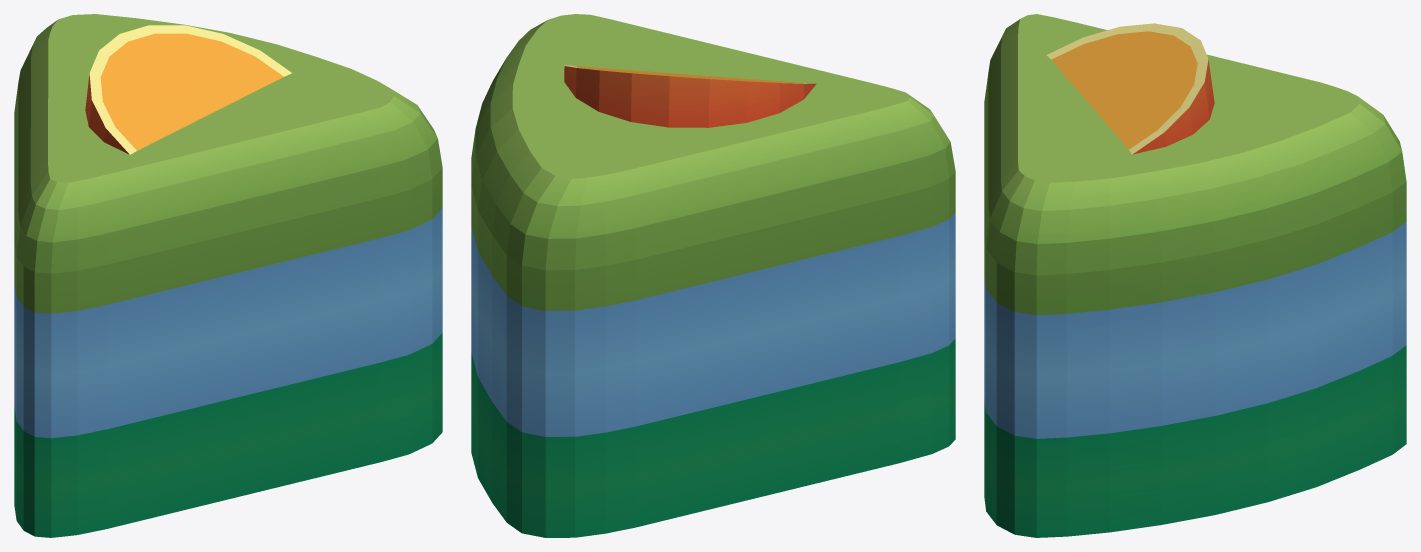
The model's file is cake08_slice.FBX.
The picture shows the model from 3 angles, left to right: view 1: azimuth 30°, elevation 25°; view 2: azimuth 150°, elevation 25°; view 3: azimuth 270°, elevation 25°; orthographic projection.
Visible parts, largest first — view 1: cake08_slice; view 2: cake08_slice; view 3: cake08_slice.
Boxes of the visible parts, left/top/right/bottom form: cake08_slice: left=14, top=14, right=442, bottom=537; cake08_slice: left=471, top=14, right=955, bottom=537; cake08_slice: left=984, top=14, right=1406, bottom=537.
Bounding box in the file's own units: 0.00904 × 0.0079 × 0.00788.
